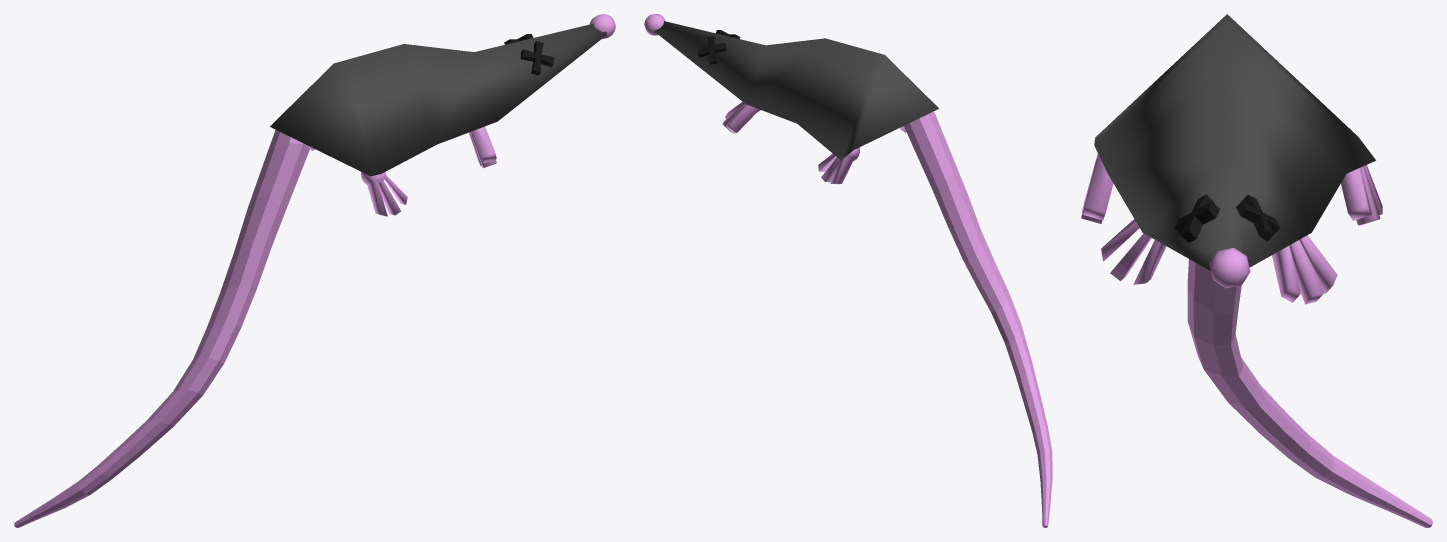
Rendered from RatHat.glb.
3 renders of one model, left to right at view 1: azimuth 30°, elevation 25°; view 2: azimuth 150°, elevation 25°; view 3: azimuth 270°, elevation 25°, orthographic. The views are drawn at different scales.
Visible parts, largest first — view 1: RatHat; view 2: RatHat; view 3: RatHat.
Part boxes in pixels (box(x1,y1,x2,y2)): RatHat: box(14, 14, 615, 527); RatHat: box(644, 14, 1052, 527); RatHat: box(1081, 14, 1432, 527).
Bounding box in the file's own units: 1.85 × 1.49 × 0.667.
